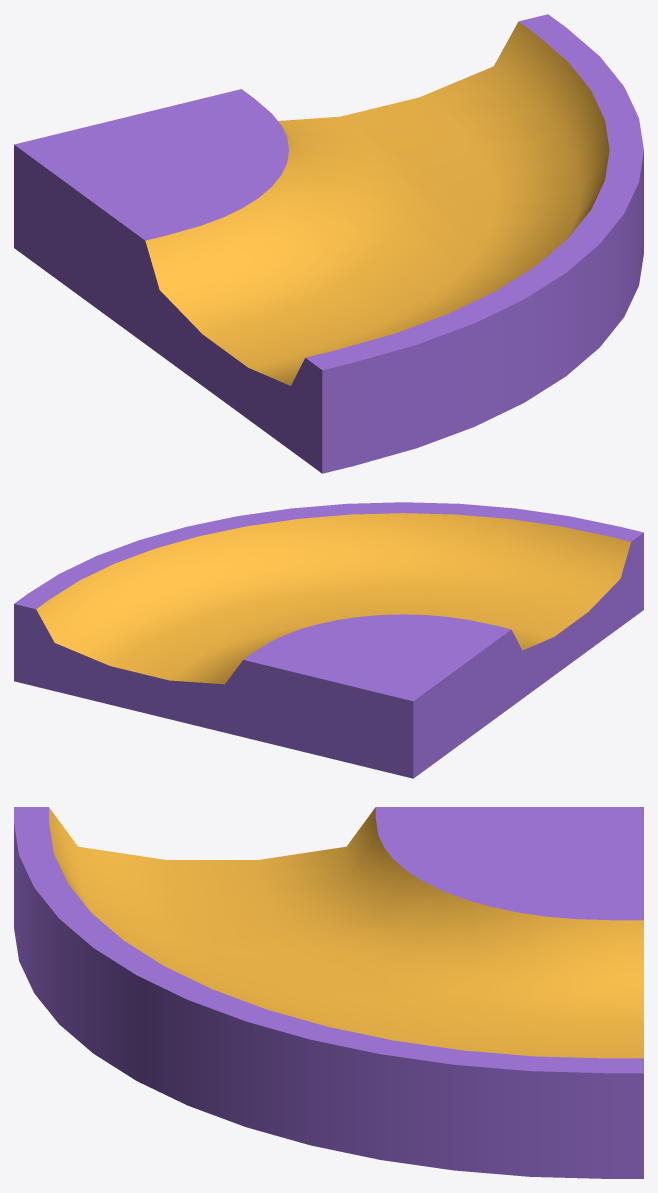
File: kenney-marble-curve-wide-solid-medium.glb
The picture shows the model from 3 angles, top to bottom: view 1: azimuth 30°, elevation 25°; view 2: azimuth 150°, elevation 25°; view 3: azimuth 270°, elevation 25°; orthographic projection. The views are drawn at different scales.
Parts seen in each view (by area): view 1: curve-wide-solid-medium; view 2: curve-wide-solid-medium; view 3: curve-wide-solid-medium.
Boxes of the visible parts, x1,y1,x2,y2 form: curve-wide-solid-medium: [14, 14, 643, 473]; curve-wide-solid-medium: [14, 502, 643, 778]; curve-wide-solid-medium: [14, 807, 643, 1178].
Size of the model in its own units: 2.7 by 0.5 by 2.7.
Materials: 1 (1 with a texture image).
